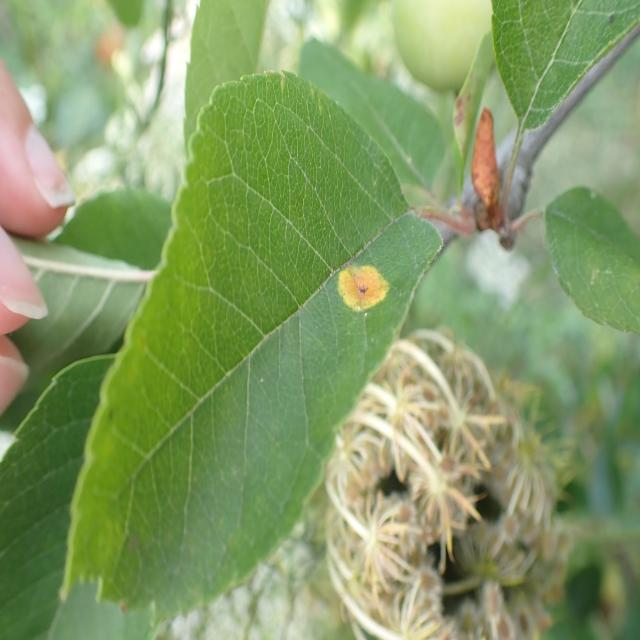Rust: (334, 247, 405, 333)
